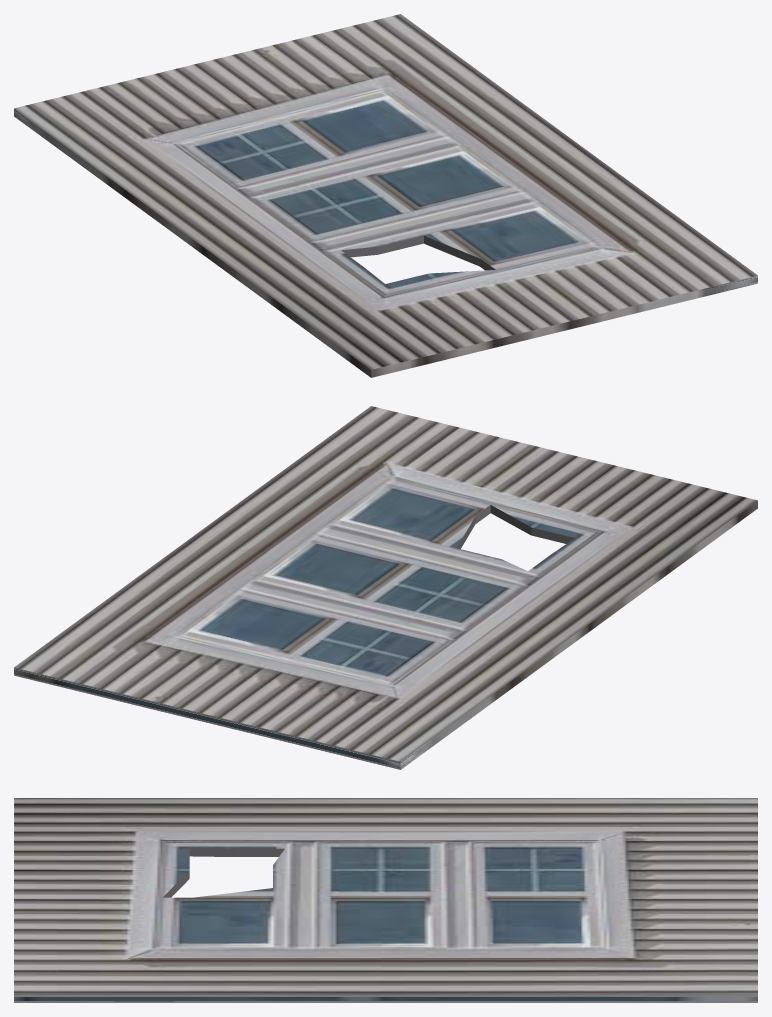
Rendered from broken_window.dae.
The picture shows the model from 3 angles, top to bottom: view 1: azimuth 30°, elevation 25°; view 2: azimuth 150°, elevation 25°; view 3: azimuth 270°, elevation 25°; orthographic projection. The views are drawn at different scales.
Visible parts, largest first — view 1: Cube; view 2: Cube; view 3: Cube.
Part boxes in pixels (box(x1,y1,x2,y2)): Cube: box(14, 14, 757, 377); Cube: box(14, 406, 757, 769); Cube: box(14, 798, 757, 1002).
Size of the model in its own units: 10 by 16 by 0.2.
